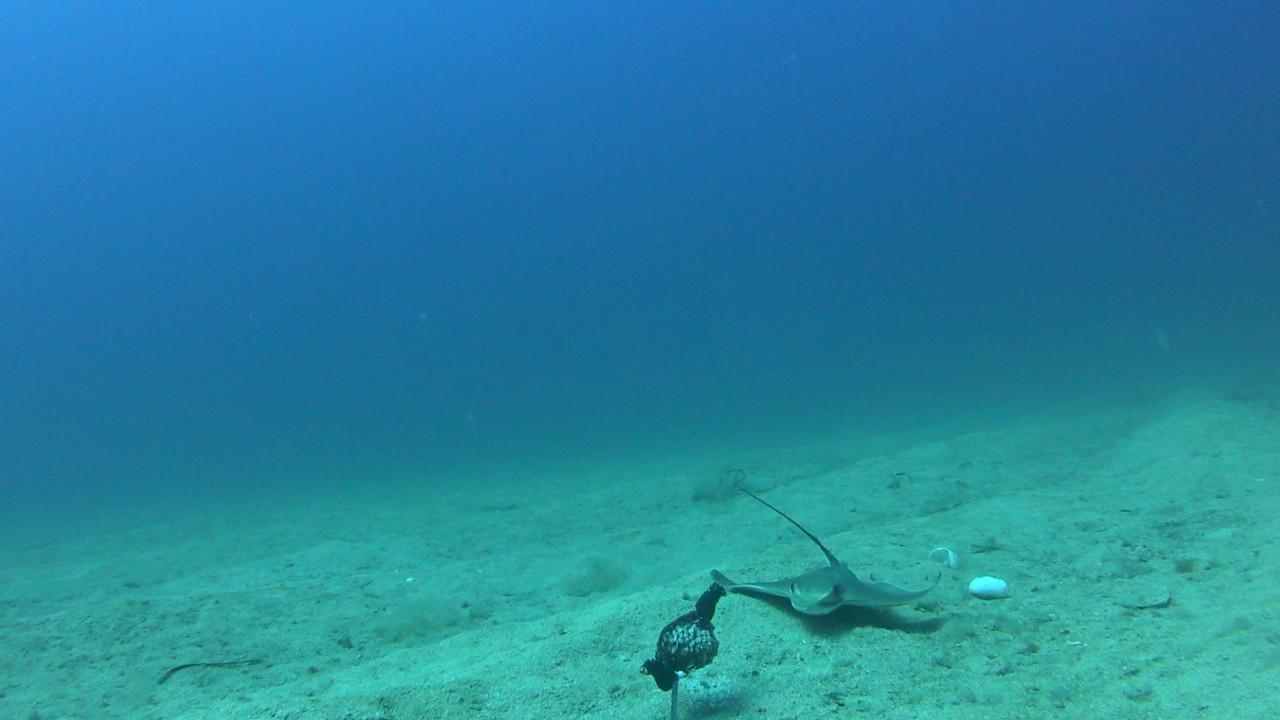myliobatis: (696, 463, 950, 619)
